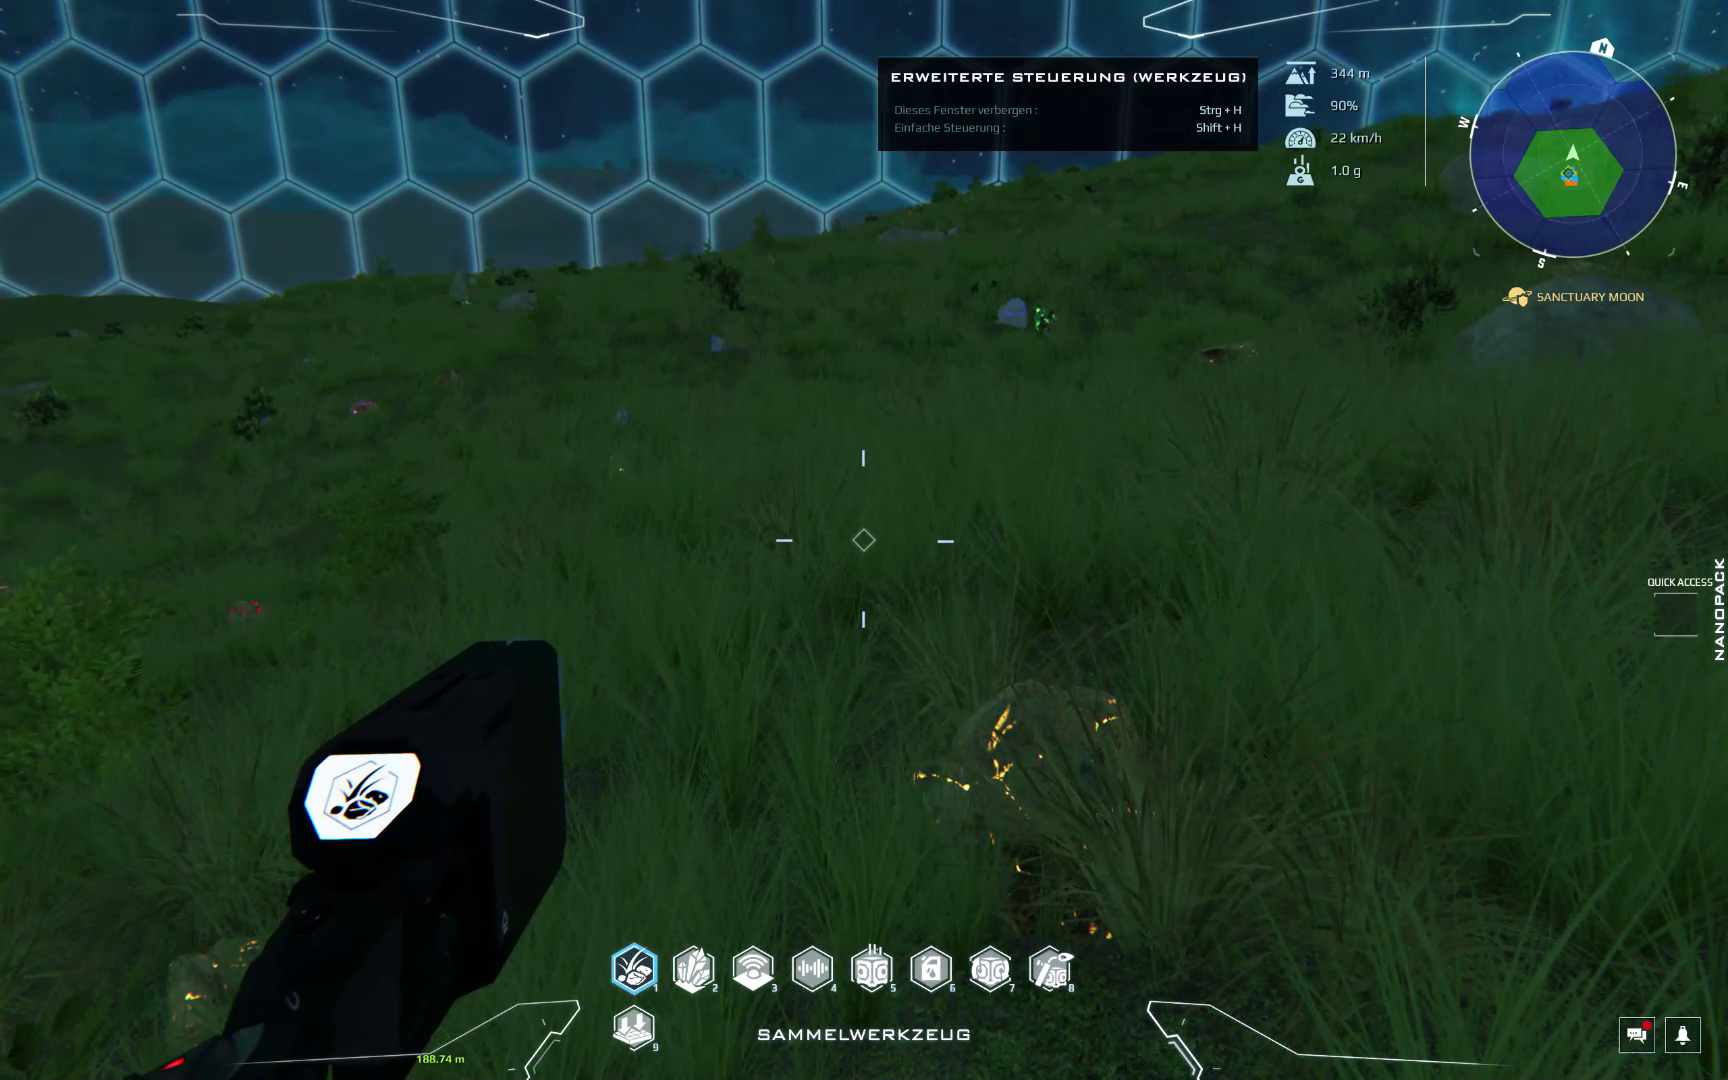Ore: (909, 674, 1156, 939), (154, 934, 270, 1068), (1198, 338, 1261, 373), (224, 595, 265, 635), (1031, 304, 1057, 331), (348, 398, 374, 416)
